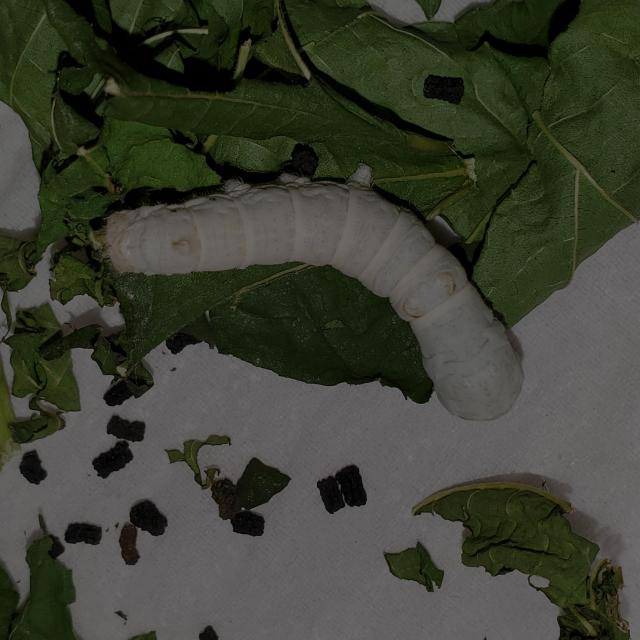Healthy: (80, 156, 528, 428)
